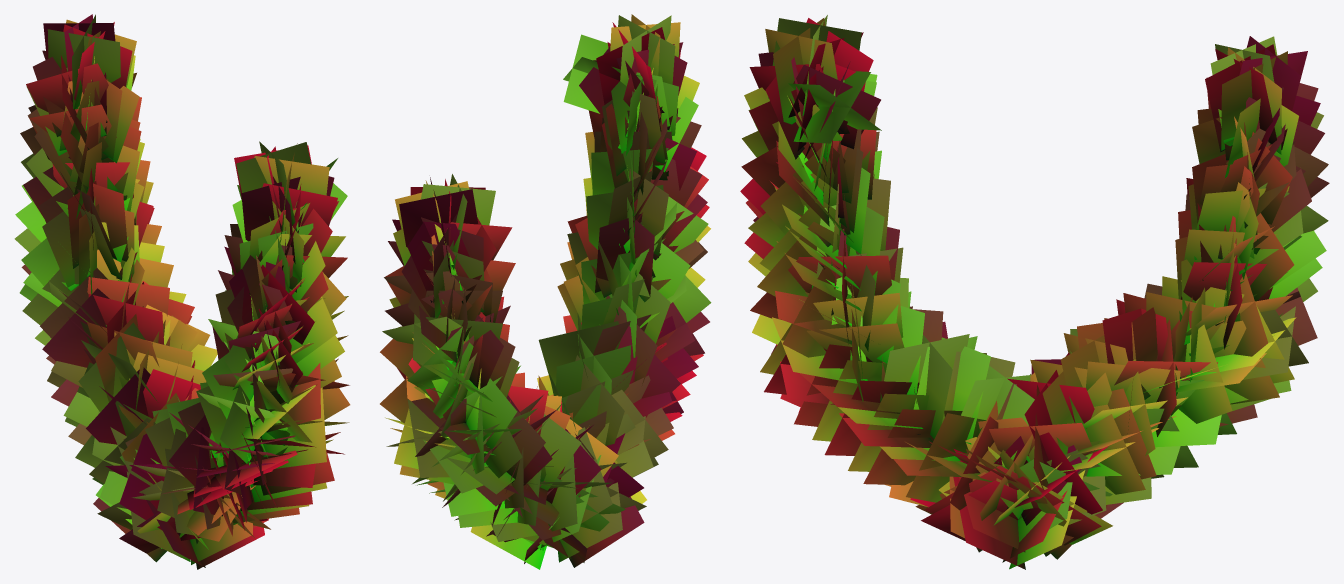
File: URP_P4_Tree_13_LOD_0.fbx
3 renders of one model, left to right at view 1: azimuth 30°, elevation 25°; view 2: azimuth 150°, elevation 25°; view 3: azimuth 270°, elevation 25°, orthographic. The views are drawn at different scales.
Visible parts, largest first — view 1: Tree_13_LOD_0; view 2: Tree_13_LOD_0; view 3: Tree_13_LOD_0.
Boxes of the visible parts, left/top/right/bottom form: Tree_13_LOD_0: left=14, top=14, right=350, bottom=569; Tree_13_LOD_0: left=380, top=14, right=711, bottom=569; Tree_13_LOD_0: left=740, top=15, right=1329, bottom=569.
Bounding box in the file's own units: 210 × 587 × 592.
